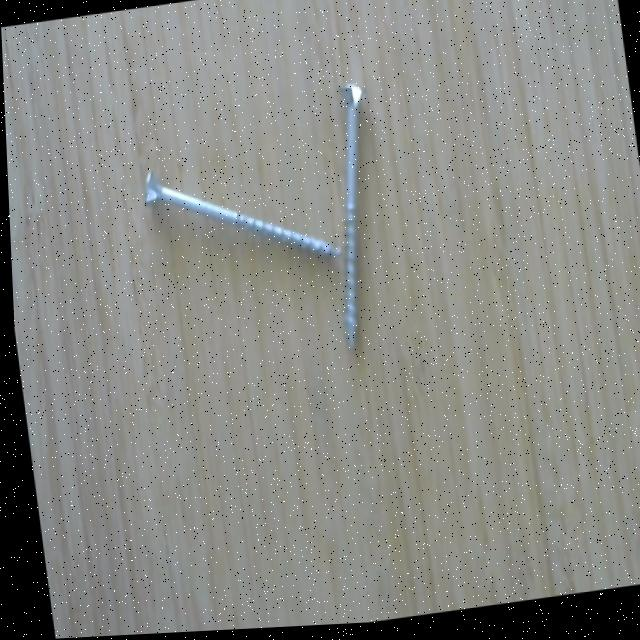Long screw: (134, 164, 343, 276), (329, 81, 376, 362)
